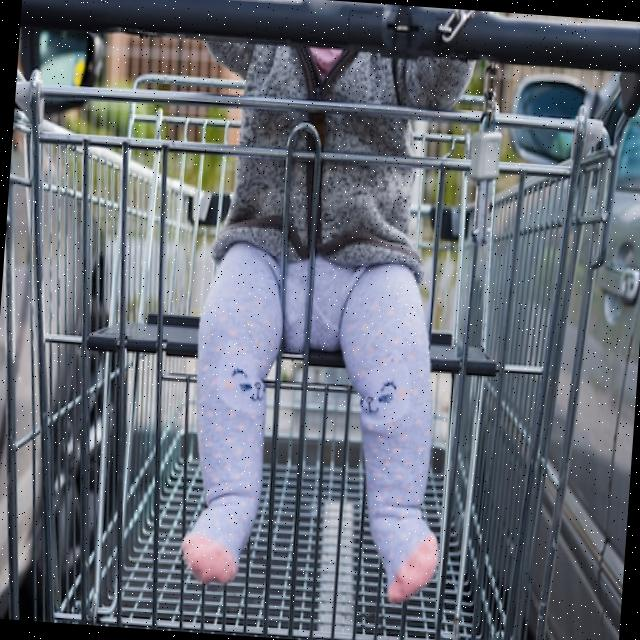Person: (134, 0, 512, 605)
